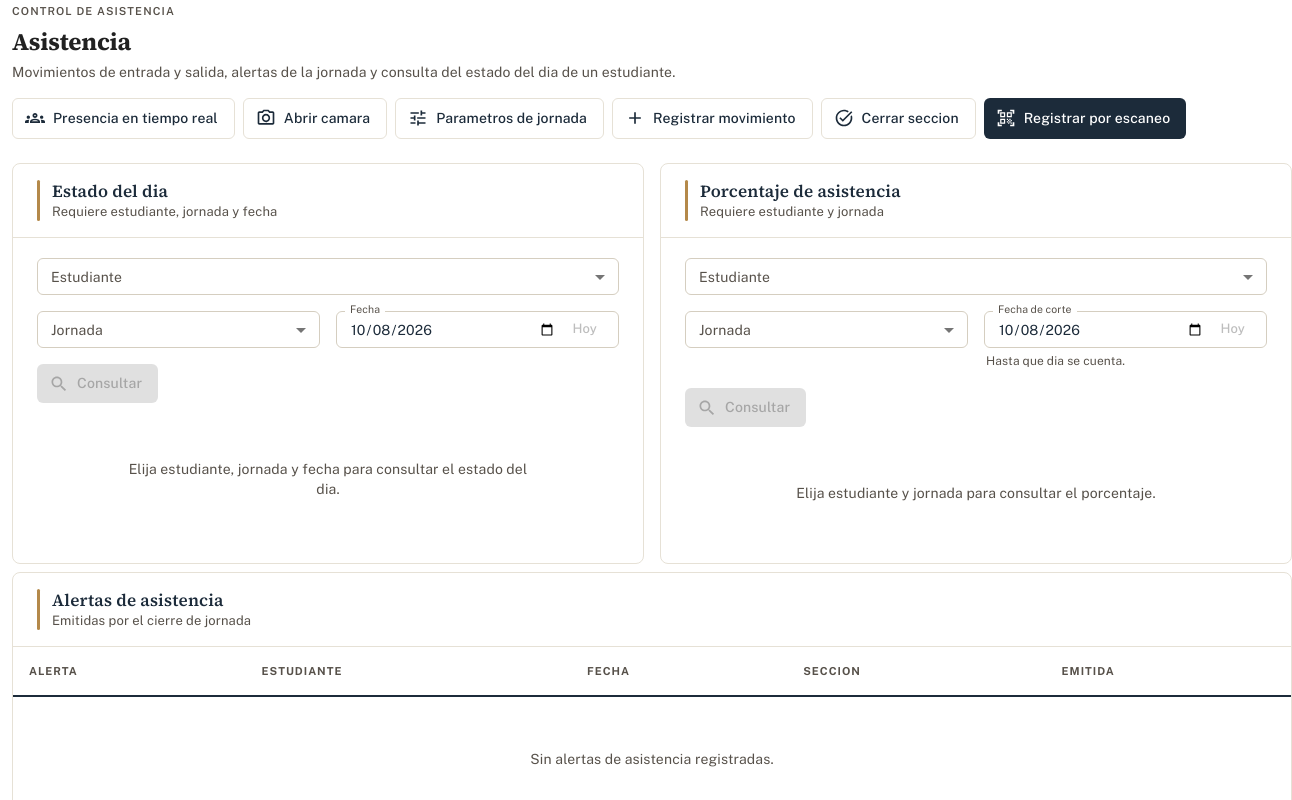
Scenario: AttendancePage — porcentaje de asistencia › muestra el porcentaje consultado
The width and height of the screenshot is (1292, 800).
What coordinates should you click on to do the following:
click the 2nd dropdown named "Estudiante"
I would click on:
 (976, 277)
Its box is [685,258,1267,295].
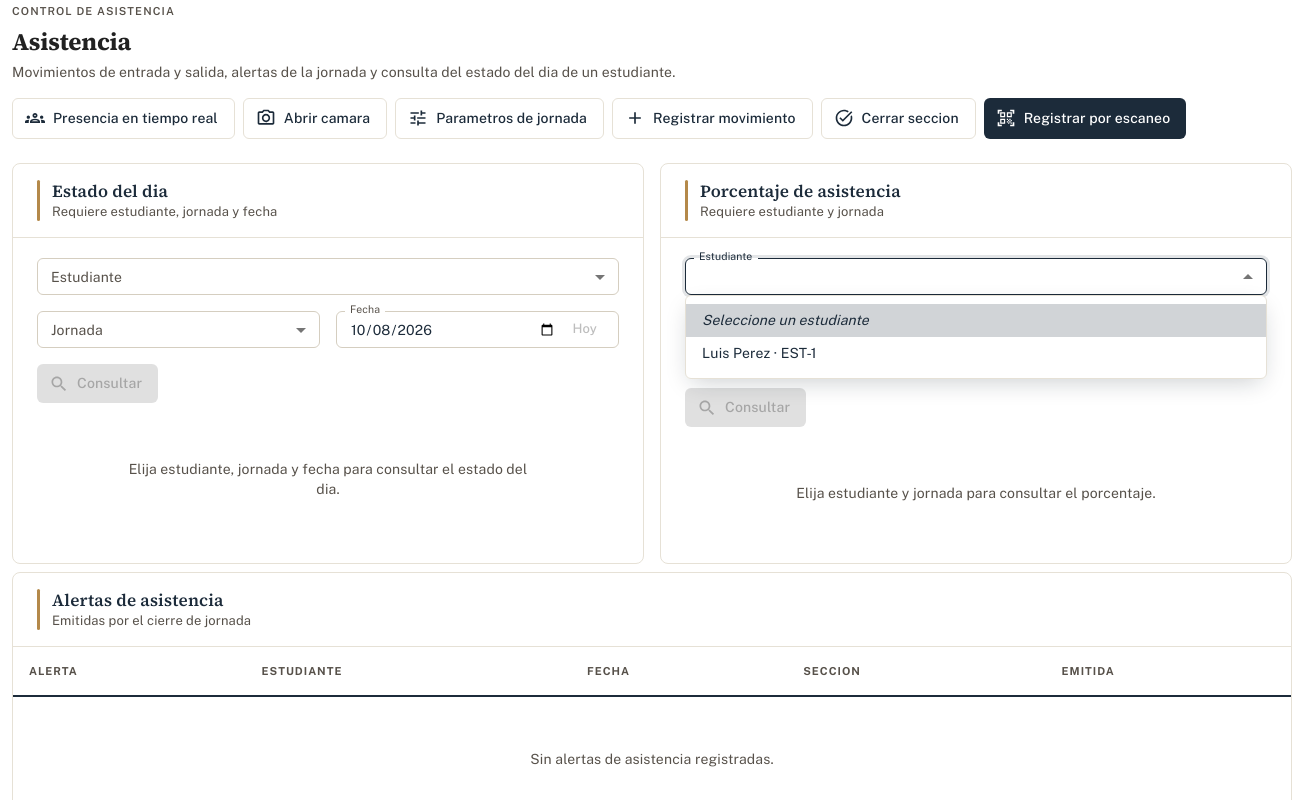
What coordinates should you click on to do the following:
click the option "Luis Perez · EST-1"
I would click on:
 (759, 353)
Its box is [702,345,817,361].
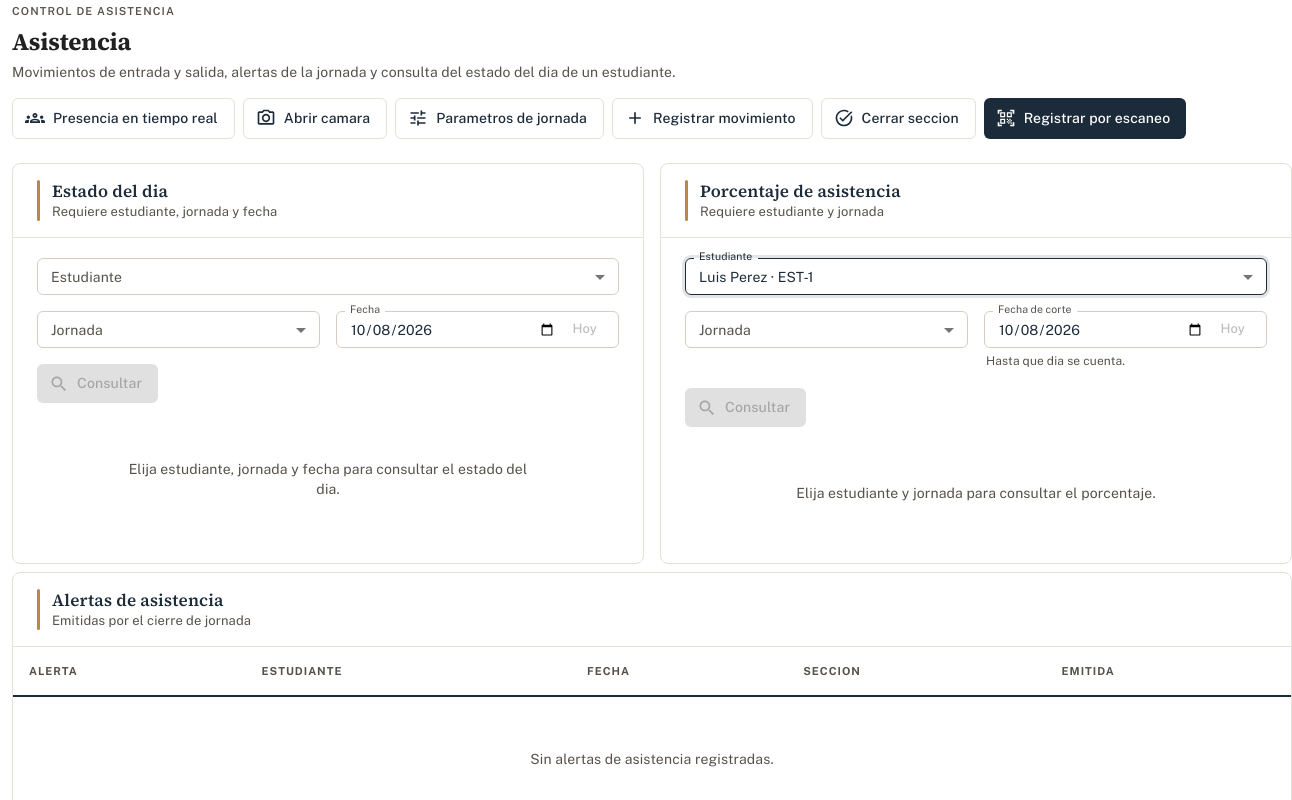
What coordinates should you click on to do the following:
click the dropdown named "Jornada" in the row of "Fecha de corte"
I would click on:
 (826, 330)
Its box is [685,311,968,348].
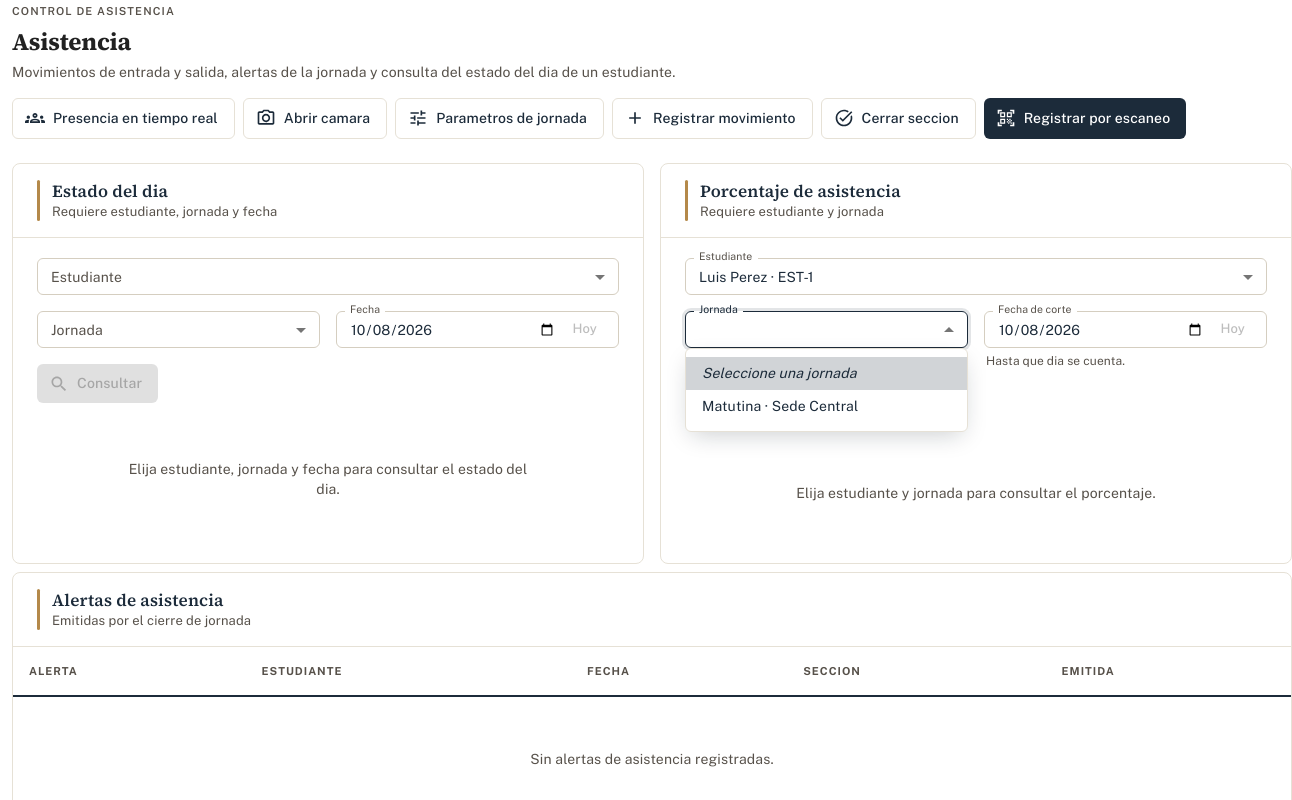
What coordinates should you click on to do the following:
click the option "Matutina · Sede Central"
I would click on:
 (780, 406)
Its box is [702,398,858,414].
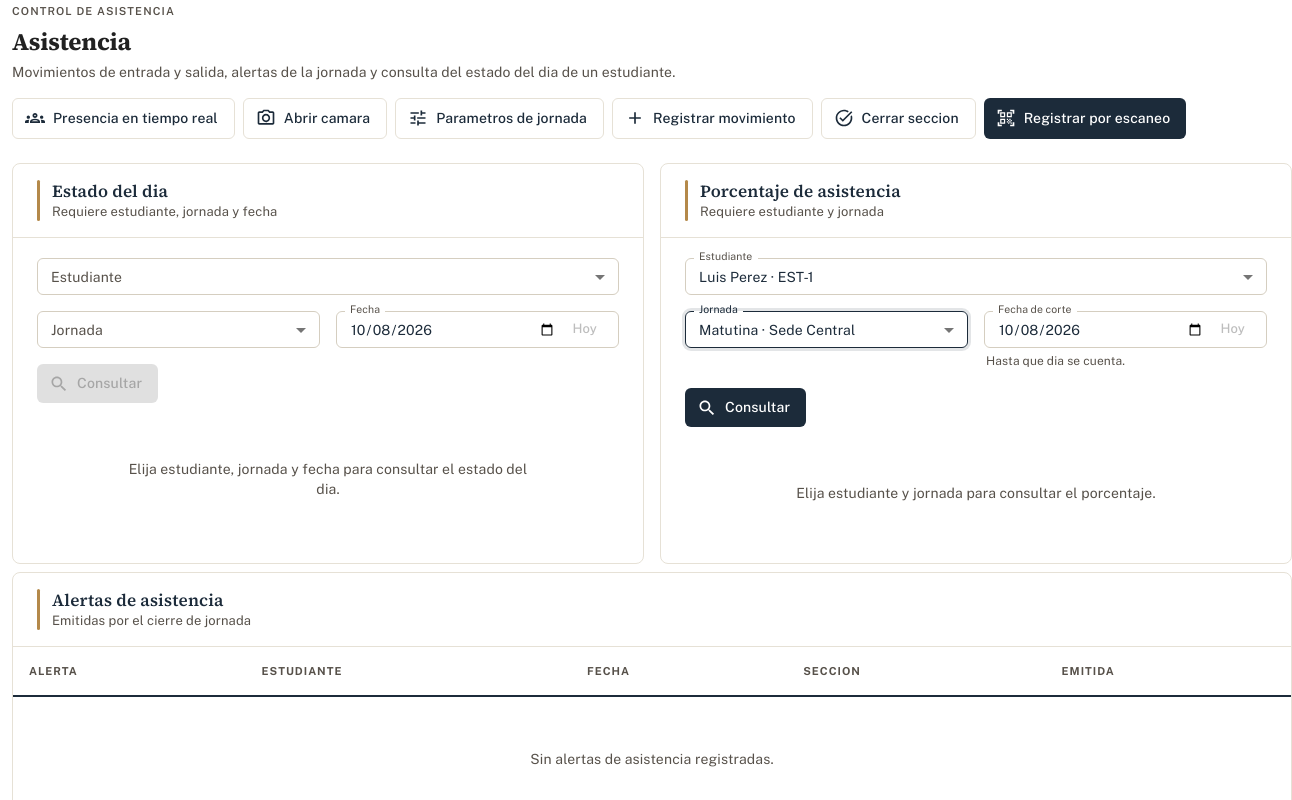
What coordinates should you click on to do the following:
click the button "Consultar" below "Hasta que dia se cuenta."
I would click on:
 (746, 408)
Its box is [685,388,806,427].
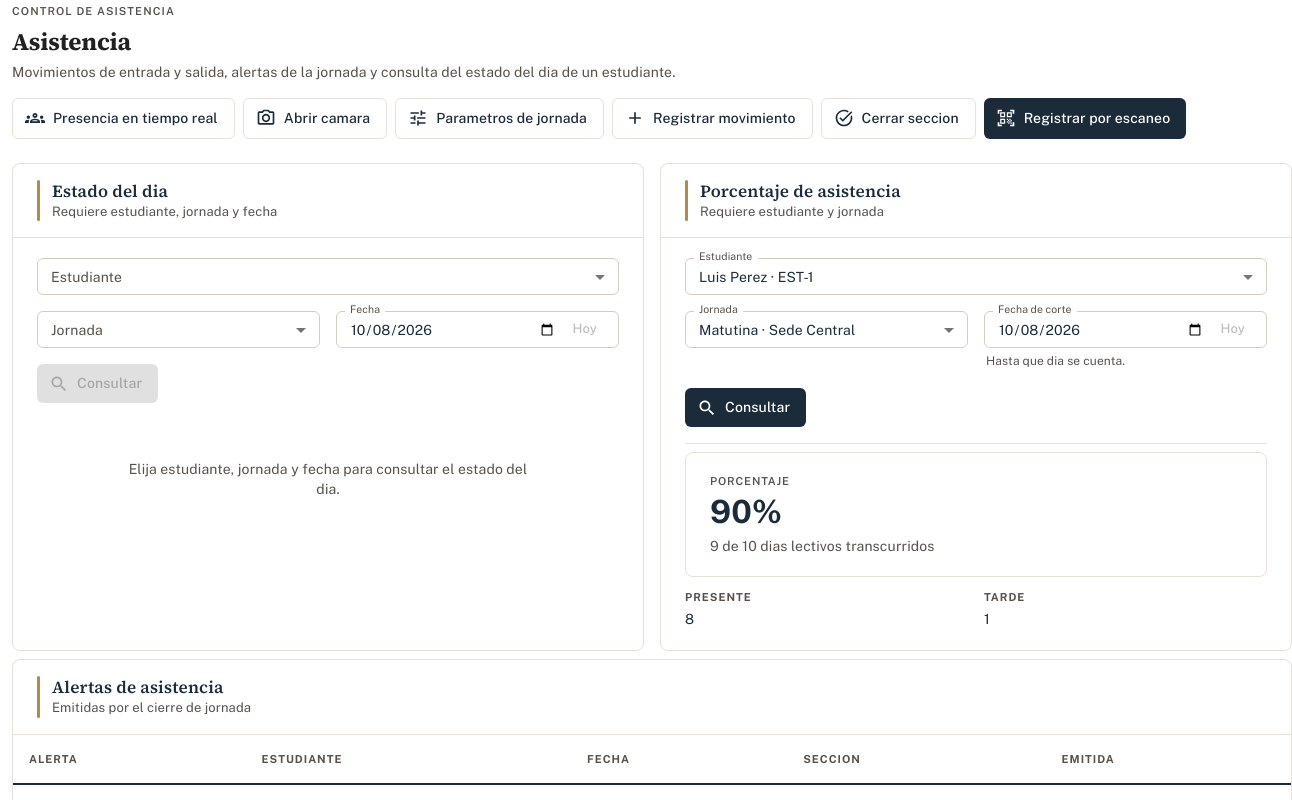
expect the text "90%" is shown: met, box [710,493,782,530]
expect the text "9 de 10 dias lectivos transcurridos" is shown: met, box [710,538,935,554]
